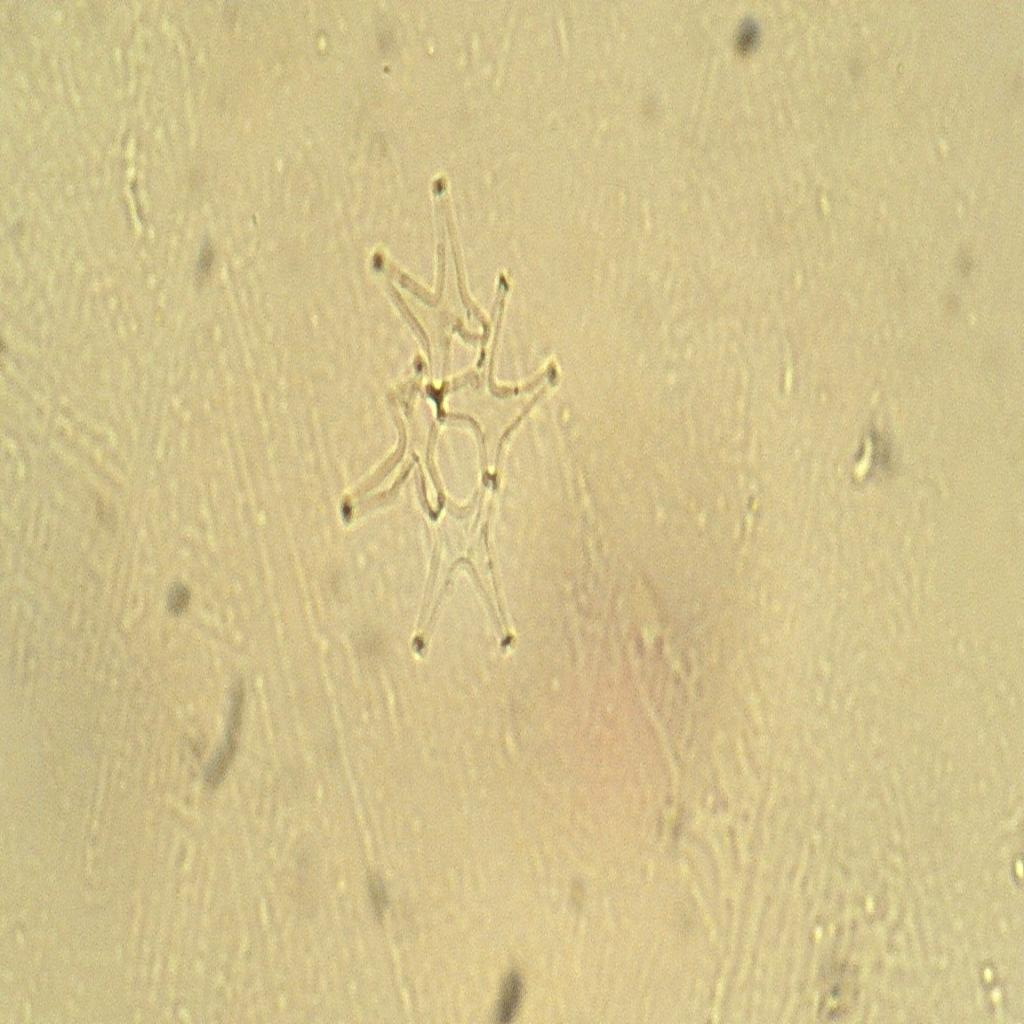Pediastrum_1F0: (328, 153, 566, 701)
